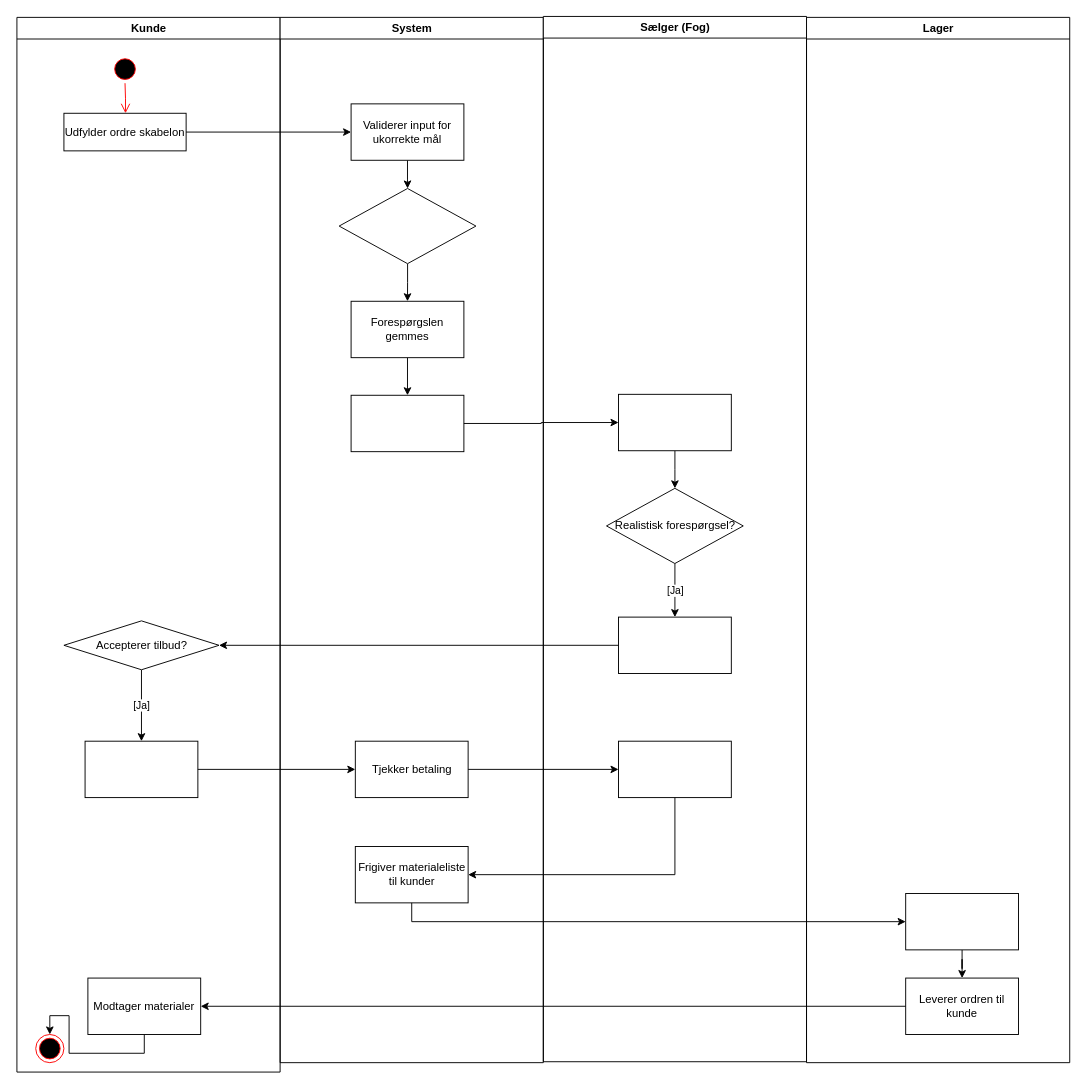
Image size: 1086x1089. Some labels were removed from this diagram. Here are the shapes that lost their labels. From the top down, the centre of each, then its label:
At (407,226): "korrekt input?".
At (407,423): "Tegner caport. (Måske)".
At (674,422): "Sælger tjekker forespørgsel".
At (674,645): "Sætter pris, sender tilbud på ordre".
At (141,769): "Betaler ordren".
At (674,769): "Bekræfter betaling".
At (961,921): "Samler ordrens materialer".
